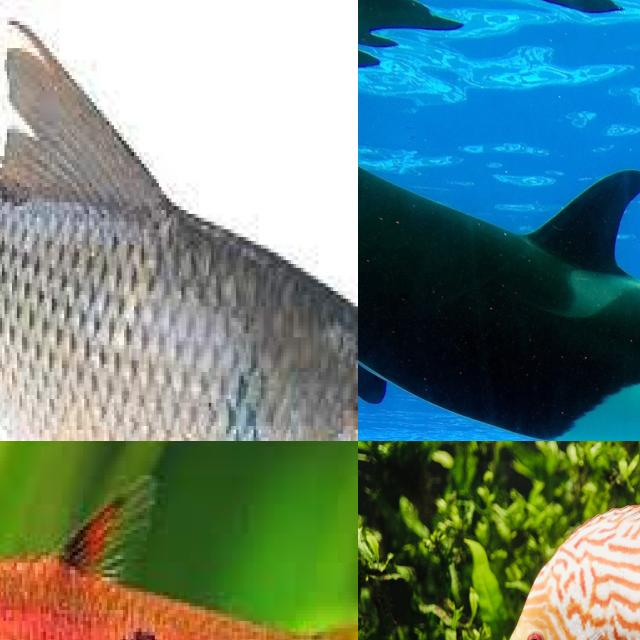fish: (0, 0, 358, 441), (358, 81, 640, 441), (0, 471, 358, 640), (502, 542, 640, 640)
